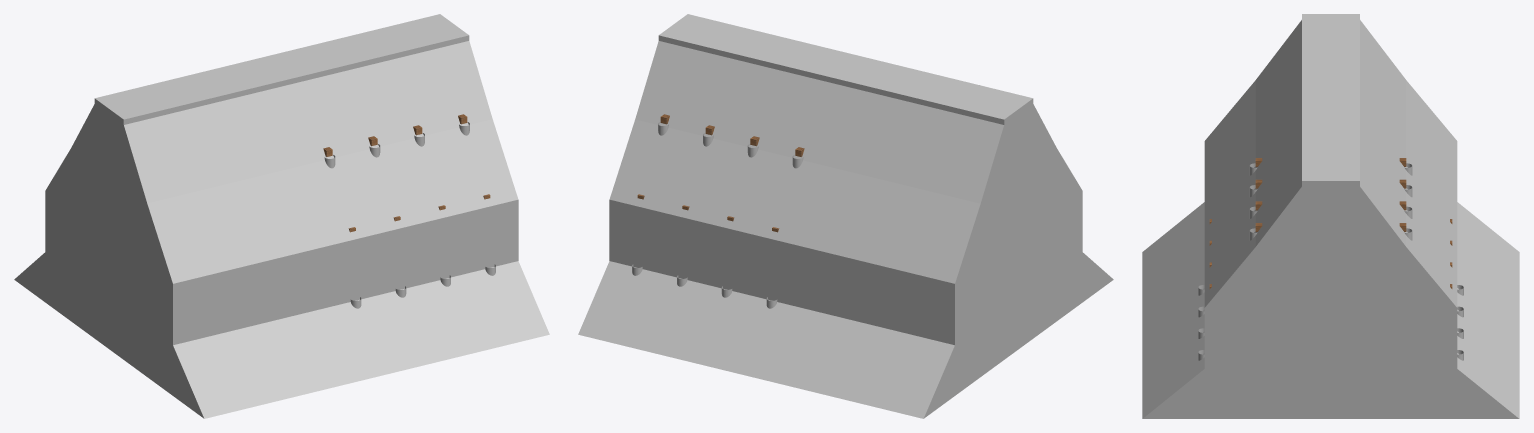
The model's file is Roof.fbx.
The picture shows the model from 3 angles, left to right: view 1: azimuth 30°, elevation 25°; view 2: azimuth 150°, elevation 25°; view 3: azimuth 270°, elevation 25°; orthographic projection.
Visible parts, largest first — view 1: Roof; view 2: Roof; view 3: Roof.
Boxes of the visible parts, bbox=[...] form: Roof: bbox=[14, 14, 549, 418]; Roof: bbox=[578, 14, 1113, 418]; Roof: bbox=[1142, 14, 1519, 418].
Bounding box in the file's own units: 4031 × 2769 × 3847.
